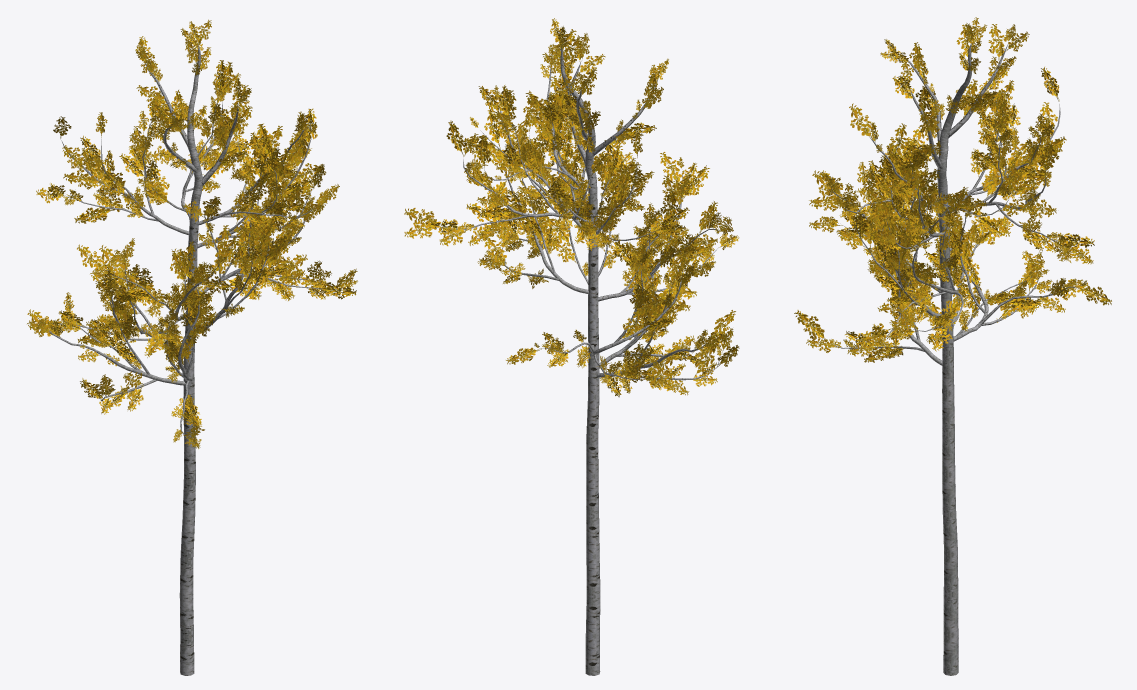
The model's file is aspen.glb.
3 views of the same model, side by side, from view 1: azimuth 30°, elevation 25°; view 2: azimuth 150°, elevation 25°; view 3: azimuth 270°, elevation 25° (orthographic). The views are drawn at different scales.
Bounding box in the file's own units: 33.56 × 69.3 × 31.96.
Materials: 2 (2 with a texture image).
